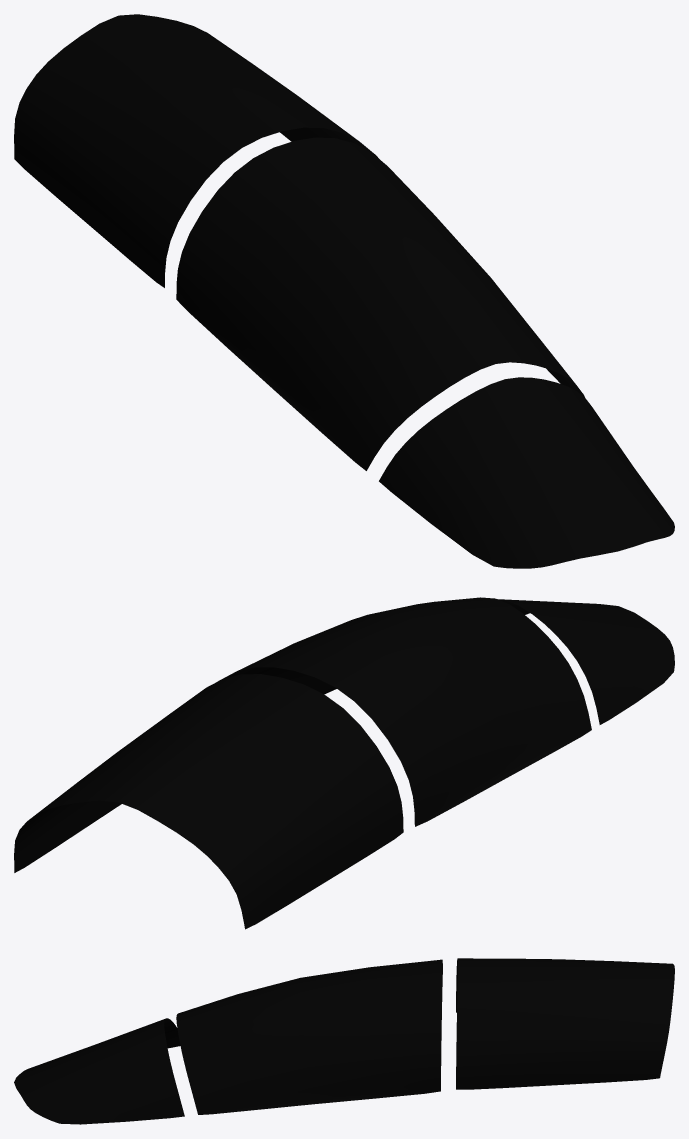
File: TAL16glass.obj
3 renders of one model, top to bottom at view 1: azimuth 30°, elevation 25°; view 2: azimuth 150°, elevation 25°; view 3: azimuth 270°, elevation 25°, orthographic. The views are drawn at different scales.
Visible parts, largest first — view 1: GLASS_2_Circle.001, GLASS_3_Circle.002, GLASS_1_Circle.009; view 2: GLASS_3_Circle.002, GLASS_2_Circle.001, GLASS_1_Circle.009; view 3: GLASS_2_Circle.001, GLASS_3_Circle.002, GLASS_1_Circle.009.
Boxes of the visible parts, bbox=[...] form: GLASS_2_Circle.001: bbox=[176, 137, 584, 470]; GLASS_3_Circle.002: bbox=[14, 14, 378, 287]; GLASS_1_Circle.009: bbox=[379, 377, 674, 568]; GLASS_3_Circle.002: bbox=[14, 674, 403, 929]; GLASS_2_Circle.001: bbox=[219, 597, 591, 826]; GLASS_1_Circle.009: bbox=[498, 599, 674, 724]; GLASS_2_Circle.001: bbox=[176, 959, 442, 1114]; GLASS_3_Circle.002: bbox=[456, 958, 674, 1089]; GLASS_1_Circle.009: bbox=[14, 1018, 184, 1124].
Bounding box in the file's own units: 0.4104 × 0.3179 × 1.49.
1 material, 1 textured.
